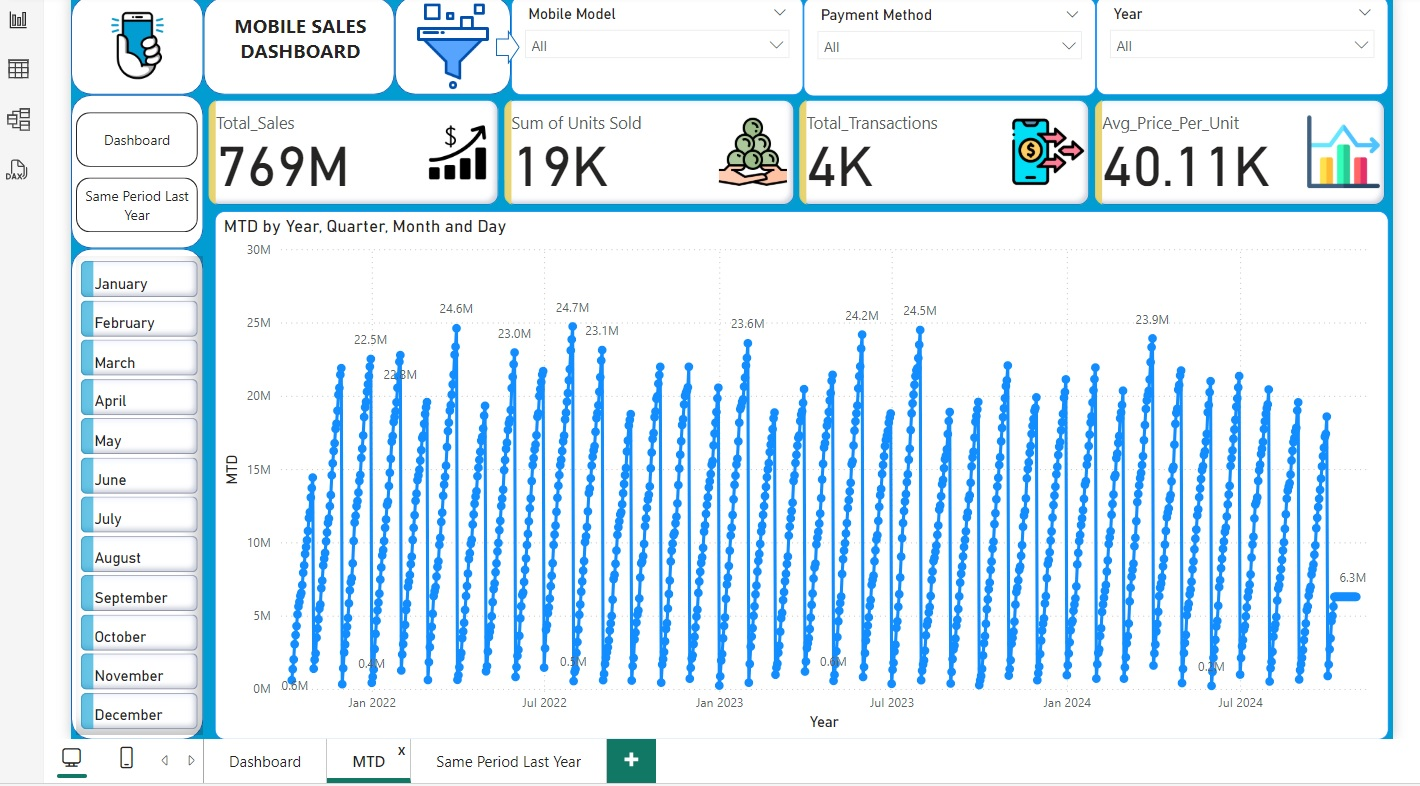

The dashboard page shown, as its layout file describes it:
{"tool":"powerbi","page":{"name":"MTD","canvas":[1280,720],"ordinal":1},"visuals":[{"type":"shape","box":[0,0,128.3,95.6],"z":0},{"type":"image","box":[0,0,128.3,95.6],"z":1000},{"type":"shape","box":[0,95.6,128.3,148.9],"z":2000},{"type":"cardVisual","fields":{"Data":["mobile_sales_data.Total_Sales","Sum(mobile_sales_data.Units Sold)","mobile_sales_data.Total_Transactions","mobile_sales_data.Avg_Price_Per_Unit"]},"box":[128.3,95.6,1151.2,112.6],"z":3000},{"type":"slicer","fields":{"Values":["mobile_sales_data.Mobile Model"]},"box":[426.1,0,283.3,95.6],"z":4000},{"type":"slicer","fields":{"Values":["mobile_sales_data.Payment Method"]},"box":[709.4,1.2,283.3,95.6],"z":5000},{"type":"slicer","fields":{"Values":["Custom_Calendar.Date.Variation.Date Hierarchy.Year"]},"box":[992.6,0,283.3,95.6],"z":6000},{"type":"shape","box":[313.5,0,112.6,95.6],"z":7000},{"type":"image","box":[313.5,1.2,112.6,95.6],"z":8000},{"type":"shape","box":[128.3,1.2,185.2,94.4],"z":9000},{"type":"shape","box":[411.6,32.7,23,33.9],"z":10000},{"type":"textbox","box":[139.2,10.9,165.8,75.1],"z":11000},{"type":"lineChart","fields":{"Category":["Custom_Calendar.Date.Variation.Date Hierarchy.Year","Custom_Calendar.Date.Variation.Date Hierarchy.Quarter","Custom_Calendar.Date.Variation.Date Hierarchy.Month","Custom_Calendar.Date.Variation.Date Hierarchy.Day"],"Y":["mobile_sales_data.MTD"]},"box":[139.2,208.2,1136.7,512],"z":12000},{"type":"shape","box":[0,244.3,128.3,475.7],"z":13000},{"type":"advancedSlicerVisual","fields":{"Values":["Custom_Calendar.Date.Variation.Date Hierarchy.Month"]},"box":[4.8,251.8,123.5,463.6],"z":14000},{"type":"pageNavigator","box":[4.8,112.6,118.6,117.4],"z":14001}]}

Visuals, with their boxes on the page's 1280x720 design canvas (x1, y1, x2, y2). These are canvas units, not pixel positions in the 1420x786 screenshot, which may show the page scaled, cropped or inside an application window:
shape: x1=0, y1=0, x2=128, y2=96
image: x1=0, y1=0, x2=128, y2=96
shape: x1=0, y1=96, x2=128, y2=244
cardVisual - mobile_sales_data.Total_Sales x Sum(mobile_sales_data.Units Sold): x1=128, y1=96, x2=1280, y2=208
slicer - mobile_sales_data.Mobile Model: x1=426, y1=0, x2=709, y2=96
slicer - mobile_sales_data.Payment Method: x1=709, y1=1, x2=993, y2=97
slicer - Custom_Calendar.Date.Variation.Date Hierarchy.Year: x1=993, y1=0, x2=1276, y2=96
shape: x1=314, y1=0, x2=426, y2=96
image: x1=314, y1=1, x2=426, y2=97
shape: x1=128, y1=1, x2=314, y2=96
shape: x1=412, y1=33, x2=435, y2=67
textbox: x1=139, y1=11, x2=305, y2=86
lineChart - Custom_Calendar.Date.Variation.Date Hierarchy.Year x Custom_Calendar.Date.Variation.Date Hierarchy.Quarter: x1=139, y1=208, x2=1276, y2=720
shape: x1=0, y1=244, x2=128, y2=720
advancedSlicerVisual - Custom_Calendar.Date.Variation.Date Hierarchy.Month: x1=5, y1=252, x2=128, y2=715
pageNavigator: x1=5, y1=113, x2=123, y2=230
